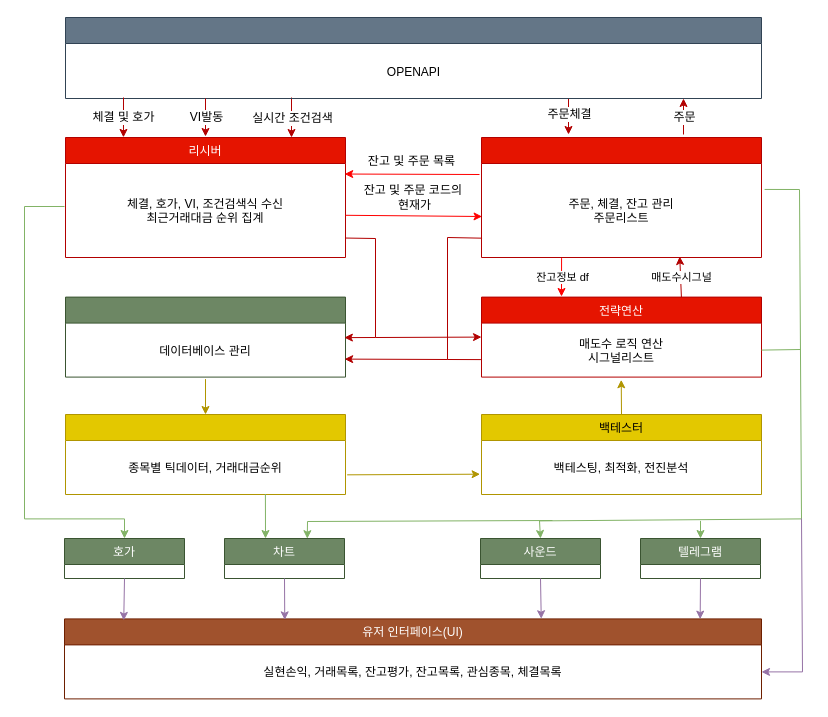
This 828x717 diagram has some shape labels left out. Here are the shapes that lost their labels. From the top down, the box of each, then its label:
(64, 16, 762, 98): 증권사
(480, 136, 762, 258): 트레이더
(64, 296, 346, 377): 쿼리
(64, 414, 346, 494): 데이터베이스
